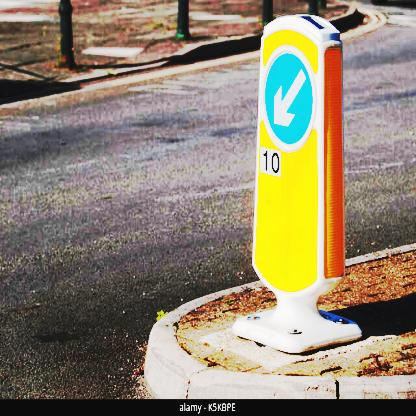Keep left: (260, 44, 322, 152)
